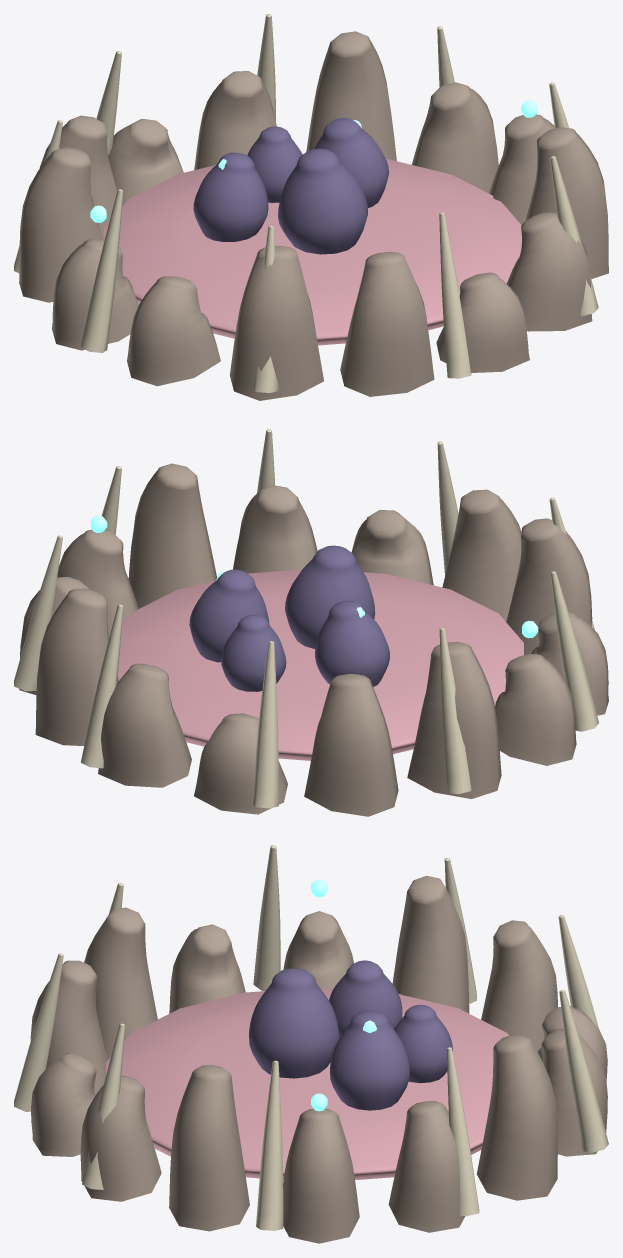
The model's file is xeno-species-and-alien-creatures-xeno-nest-mound-760682e5__21140.glb.
The picture shows the model from 3 angles, top to bottom: view 1: azimuth 30°, elevation 25°; view 2: azimuth 150°, elevation 25°; view 3: azimuth 270°, elevation 25°; orthographic projection.
Parts seen in each view (by area): view 1: xeno-nest-mound; view 2: xeno-nest-mound; view 3: xeno-nest-mound.
Part boxes in pixels (<box>): xeno-nest-mound: <box>14,14,608,400</box>; xeno-nest-mound: <box>14,429,608,816</box>; xeno-nest-mound: <box>14,845,608,1243</box>.
Size of the model in its own units: 2.4 by 0.7146 by 2.35.
